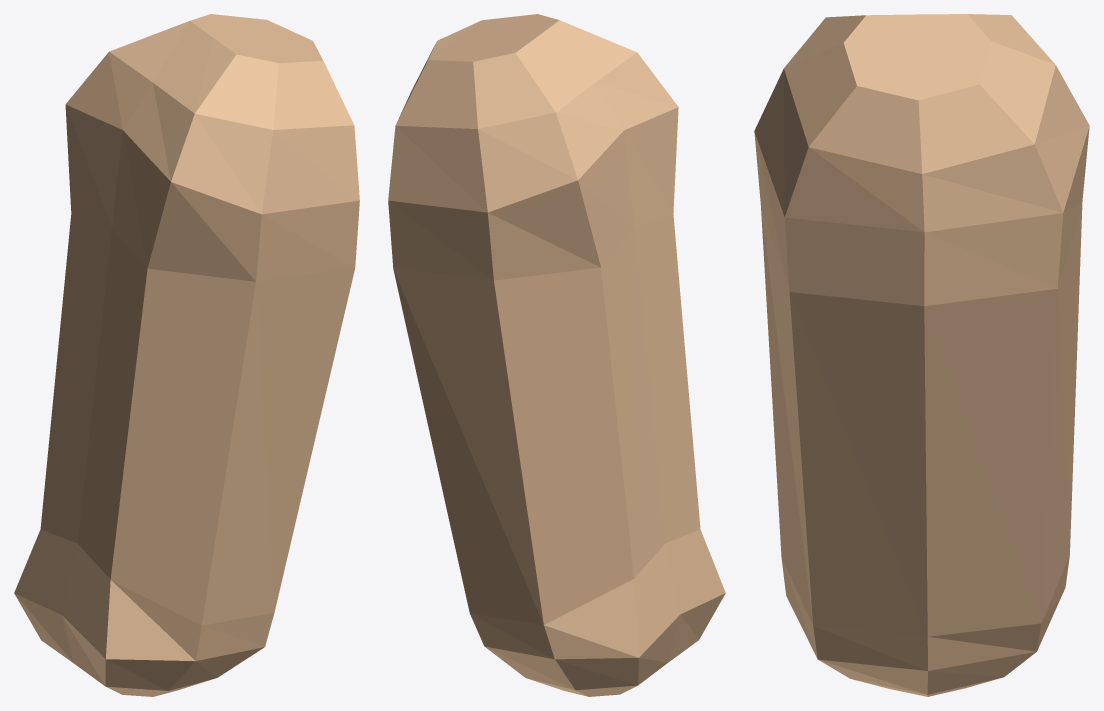
Rendered from RFing31_mesh.dae.
The picture shows the model from 3 angles, left to right: view 1: azimuth 30°, elevation 25°; view 2: azimuth 150°, elevation 25°; view 3: azimuth 270°, elevation 25°; orthographic projection. The views are drawn at different scales.
Visible parts, largest first — view 1: RFing31; view 2: RFing31; view 3: RFing31.
Part boxes in pixels (x1,y1,x2,y2): RFing31: (14,14,359,696); RFing31: (388,14,725,696); RFing31: (754,14,1089,696).
Bounding box in the file's own units: 0.0198 × 0.0426 × 0.0184.
